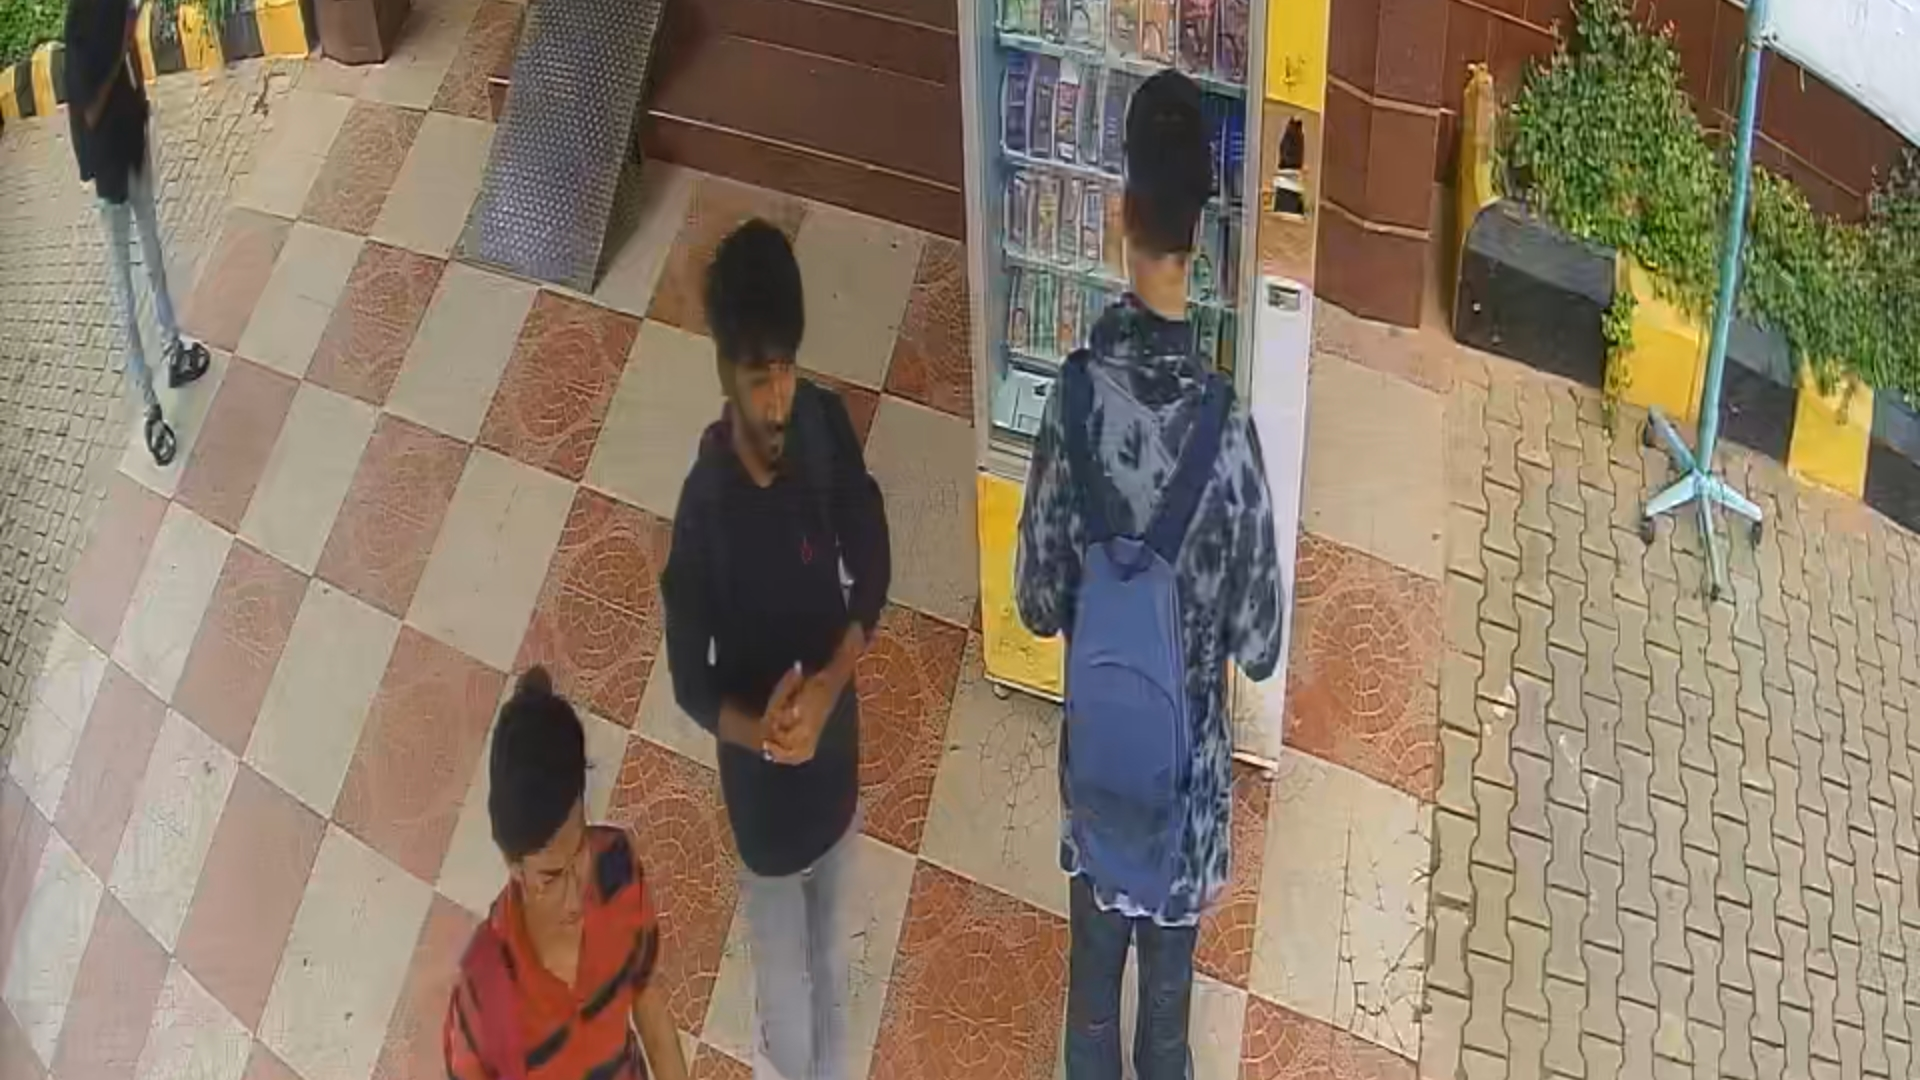intruder: (673, 225, 926, 1080), (436, 698, 671, 1080)
